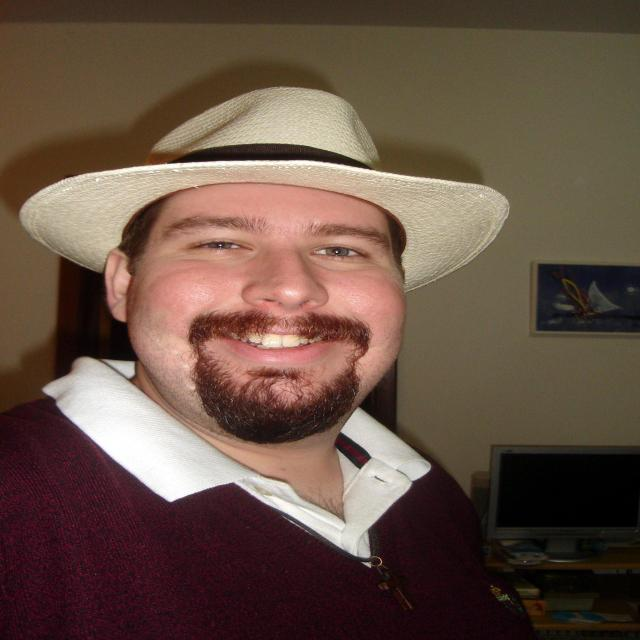no-glass: (182, 231, 372, 272)
